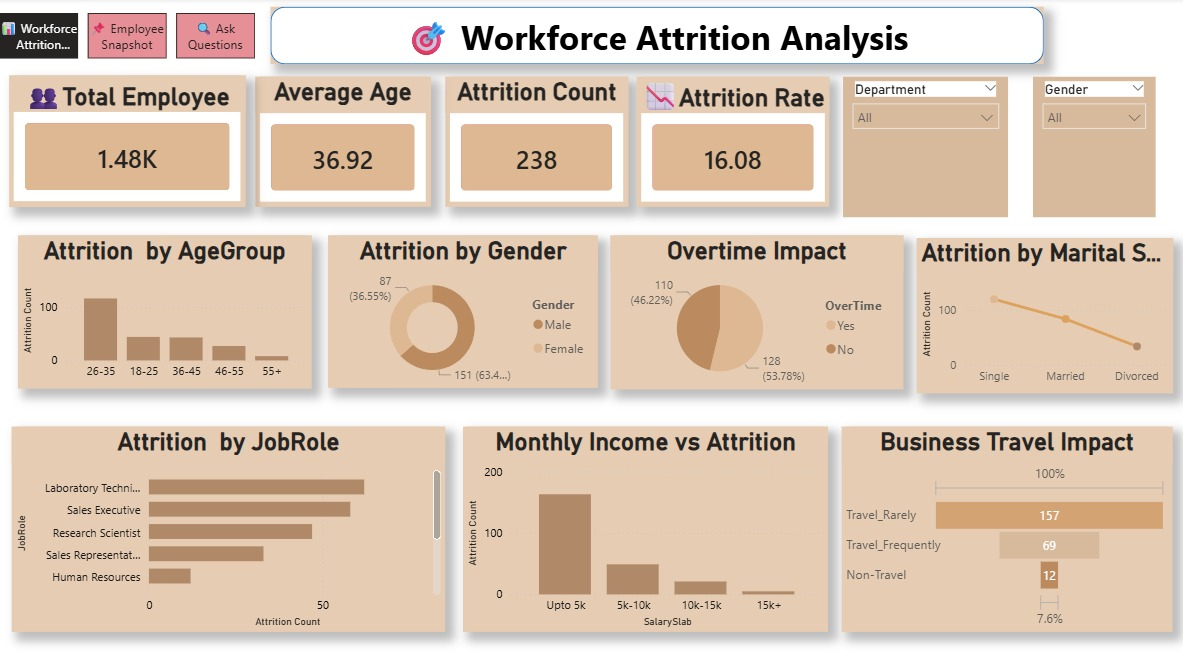

Layout of this report page (visuals, bound fields, positions):
{"tool":"powerbi","page":{"name":"📊 Workforce Attrition Analysis","canvas":[1280,720],"ordinal":0},"visuals":[{"type":"shape","box":[293.5,9.4,832.2,61.9],"z":0},{"type":"cardVisual","title":"Attrition Count","fields":{"Data":["Sheet1.Attrition Count"]},"box":[482.1,84.8,196.6,140],"z":1000},{"type":"cardVisual","title":"📉Attrition Rate","fields":{"Data":["Sheet1.Attrition Rate"]},"box":[686.7,84.8,207.4,140],"z":2000},{"type":"clusteredColumnChart","title":"Attrition  by AgeGroup","fields":{"Category":["Sheet1.AgeGroup"],"Y":["Sheet1.Attrition Count"]},"box":[21.8,255.8,315.6,164.6],"z":3000},{"type":"donutChart","title":"Attrition by Gender","fields":{"Category":["Sheet1.Gender"],"Y":["Sheet1.Attrition Count"]},"box":[355.4,255.8,290.8,164.2],"z":4000},{"type":"pieChart","title":"Overtime Impact","fields":{"Y":["Sheet1.Attrition Count"],"Category":["Sheet1.OverTime"]},"box":[659.7,255.8,315,165.6],"z":5000},{"type":"clusteredBarChart","title":"Attrition  by JobRole","fields":{"Category":["Sheet1.JobRole"],"Y":["Sheet1.Attrition Count"]},"box":[15,461.2,466.7,220.4],"z":6000},{"type":"lineStackedColumnComboChart","title":"Monthly Income vs Attrition","fields":{"Category":["Sheet1.SalarySlab"],"Y":["Sheet1.Attrition Count"]},"box":[500.7,461.2,393.2,220.4],"z":7000},{"type":"funnel","title":"Business Travel Impact","fields":{"Category":["Sheet1.BusinessTravel"],"Y":["Sheet1.Attrition Count"]},"box":[908.3,460.9,355.8,221],"z":8000},{"type":"lineChart","title":"Attrition by Marital Status","fields":{"Category":["Sheet1.MaritalStatus"],"Y":["Sheet1.Attrition Count"]},"box":[988.1,258.5,276,166.9],"z":9000},{"type":"cardVisual","title":"Average Age","fields":{"Data":["Sheet1.Average Age"]},"box":[277.4,84.8,188.5,140],"z":10000},{"type":"pageNavigator","box":[1.3,16.1,277.1,49.8],"z":11000},{"type":"slicer","fields":{"Values":["Sheet1.Gender"]},"box":[1113.6,84.8,132,150.8],"z":12000},{"type":"slicer","fields":{"Values":["Sheet1.Department"]},"box":[908.9,84.8,177.7,150.8],"z":13000},{"type":"cardVisual","title":"👥Total Employee","fields":{"Data":["CountNonNull(Sheet1.EmpID)"]},"box":[12.1,83.5,254.5,141.4],"z":14000}]}

Visuals, with their boxes on the page's 1280x720 design canvas (x1, y1, x2, y2). These are canvas units, not pixel positions in the 1183x665 screenshot, which may show the page scaled, cropped or inside an application window:
shape: locate(294, 9, 1126, 71)
"Attrition Count" cardVisual: locate(482, 85, 679, 225)
"📉Attrition Rate" cardVisual: locate(687, 85, 894, 225)
"Attrition  by AgeGroup" clusteredColumnChart: locate(22, 256, 337, 420)
"Attrition by Gender" donutChart: locate(355, 256, 646, 420)
"Overtime Impact" pieChart: locate(660, 256, 975, 421)
"Attrition  by JobRole" clusteredBarChart: locate(15, 461, 482, 682)
"Monthly Income vs Attrition" lineStackedColumnComboChart: locate(501, 461, 894, 682)
"Business Travel Impact" funnel: locate(908, 461, 1264, 682)
"Attrition by Marital Status" lineChart: locate(988, 258, 1264, 425)
"Average Age" cardVisual: locate(277, 85, 466, 225)
pageNavigator: locate(1, 16, 278, 66)
slicer - Sheet1.Gender: locate(1114, 85, 1246, 236)
slicer - Sheet1.Department: locate(909, 85, 1087, 236)
"👥Total Employee" cardVisual: locate(12, 84, 267, 225)
